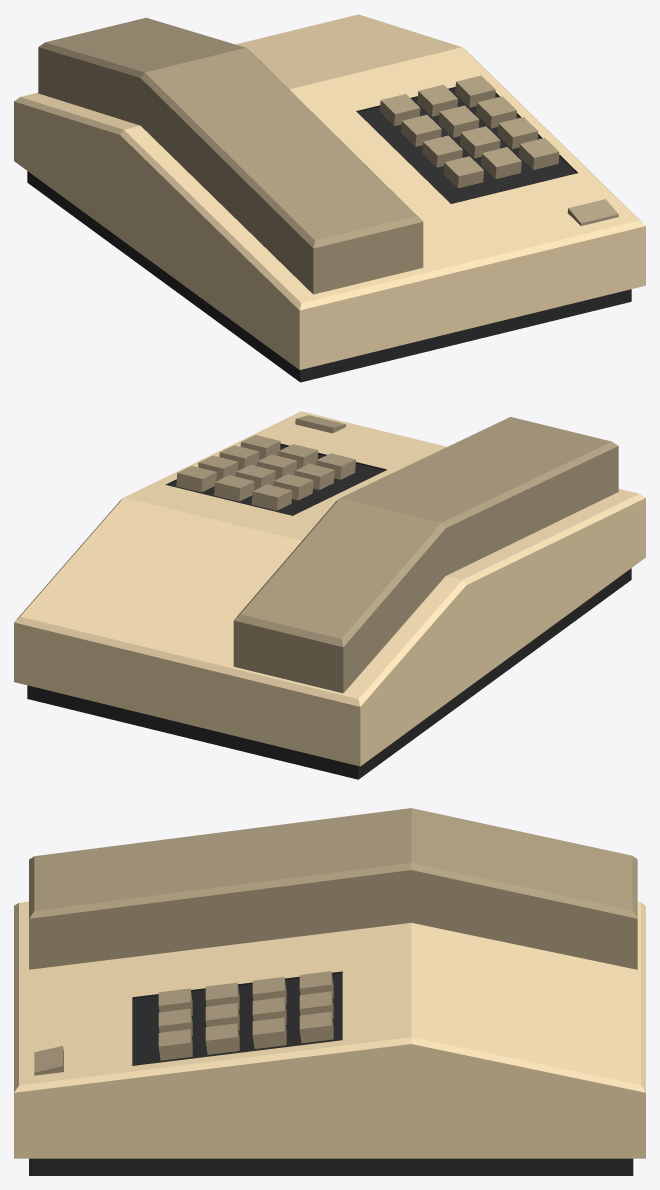
Rendered from Phone.fbx.
3 views of the same model, one above another, from view 1: azimuth 30°, elevation 25°; view 2: azimuth 150°, elevation 25°; view 3: azimuth 270°, elevation 25° (orthographic). The views are drawn at different scales.
Parts seen in each view (by area): view 1: Phone; view 2: Phone; view 3: Phone.
Part boxes in pixels (x1,y1,x2,y2): Phone: (14,14,645,382); Phone: (14,411,645,779); Phone: (14,808,645,1175).
Bounding box in the file's own units: 40.54 × 20.06 × 57.91.
